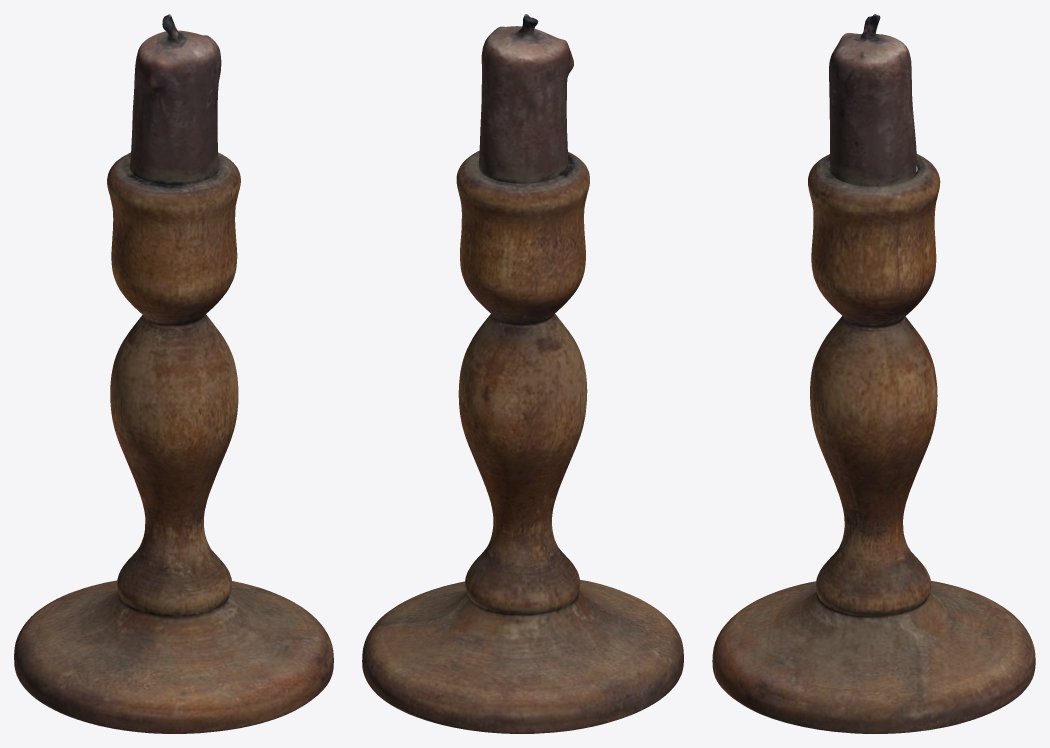
File: wooden_candlestick.glb
The picture shows the model from 3 angles, left to right: view 1: azimuth 30°, elevation 25°; view 2: azimuth 150°, elevation 25°; view 3: azimuth 270°, elevation 25°; orthographic projection.
Visible parts, largest first — view 1: wooden_candlestick; view 2: wooden_candlestick; view 3: wooden_candlestick.
Boxes of the visible parts, box(x1,y1,x2,y2) form: wooden_candlestick: box(14, 14, 333, 733); wooden_candlestick: box(362, 14, 683, 733); wooden_candlestick: box(712, 14, 1035, 733).
Bounding box in the file's own units: 0.0972 × 0.2197 × 0.0987.
Materials: 1 (1 with a texture image).
